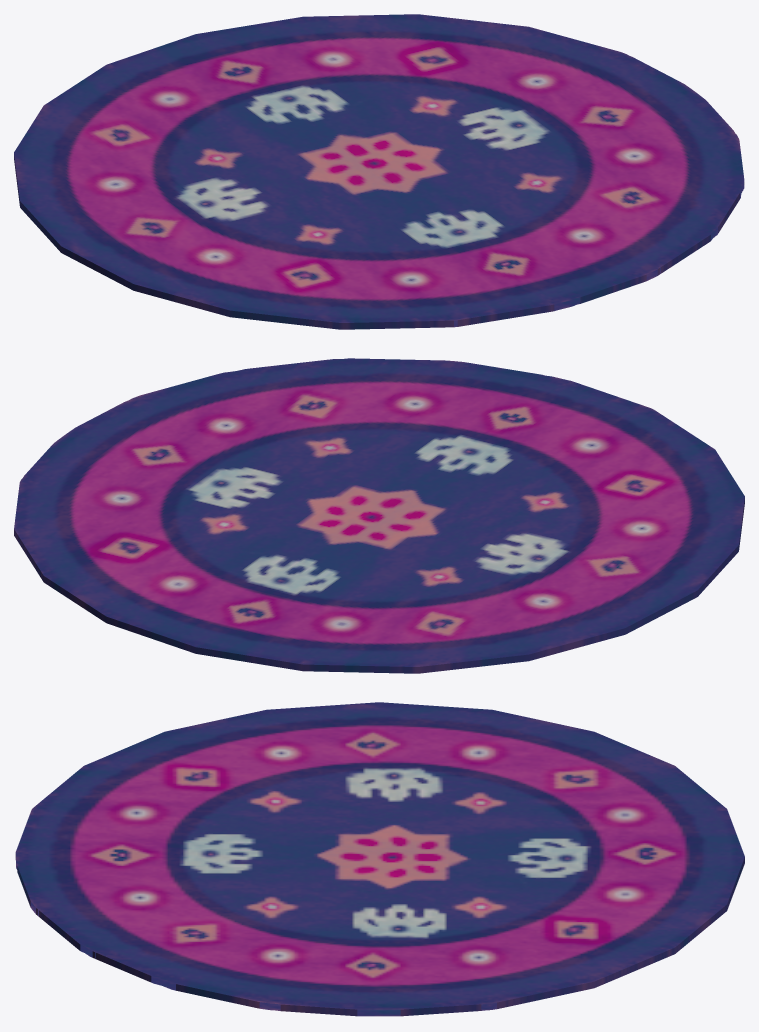
The model's file is roundRug1.fbx.
3 views of the same model, one above another, from view 1: azimuth 30°, elevation 25°; view 2: azimuth 150°, elevation 25°; view 3: azimuth 270°, elevation 25° (orthographic).
Parts seen in each view (by area): view 1: pCylinder1; view 2: pCylinder1; view 3: pCylinder1.
Part boxes in pixels (left/top/right/bottom): pCylinder1: left=14, top=14, right=744, bottom=329; pCylinder1: left=14, top=358, right=744, bottom=673; pCylinder1: left=15, top=702, right=744, bottom=1016.
Size of the model in its own units: 10.29 by 0.1033 by 10.29.
